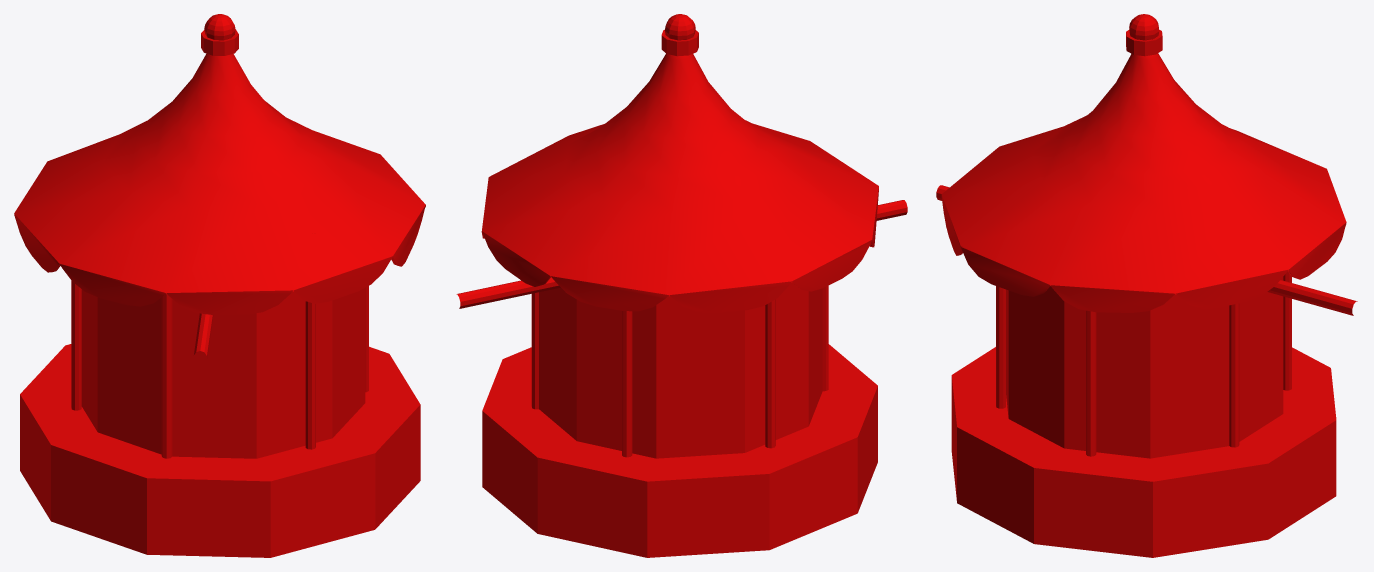
The model's file is Extras_FerrisWheelCart.glb.
3 renders of one model, left to right at view 1: azimuth 30°, elevation 25°; view 2: azimuth 150°, elevation 25°; view 3: azimuth 270°, elevation 25°, orthographic.
Parts seen in each view (by area): view 1: Extras_FerrisWheelCart; view 2: Extras_FerrisWheelCart; view 3: Extras_FerrisWheelCart.
Boxes of the visible parts, left/top/right/bottom form: Extras_FerrisWheelCart: left=14, top=14, right=425, bottom=557; Extras_FerrisWheelCart: left=456, top=14, right=907, bottom=557; Extras_FerrisWheelCart: left=936, top=14, right=1357, bottom=557.
Size of the model in its own units: 2.05 by 2.55 by 2.14.
